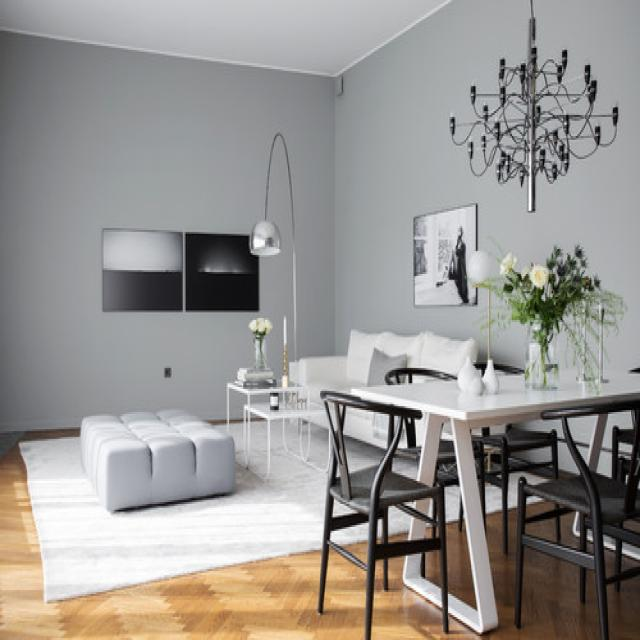white chair: (310, 370, 435, 632)
white desk: (308, 356, 625, 634)
